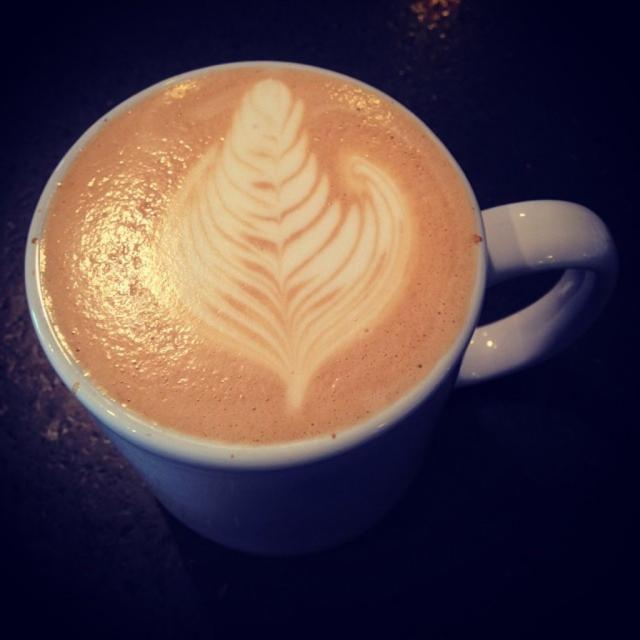Coffee: (26, 62, 485, 471)
